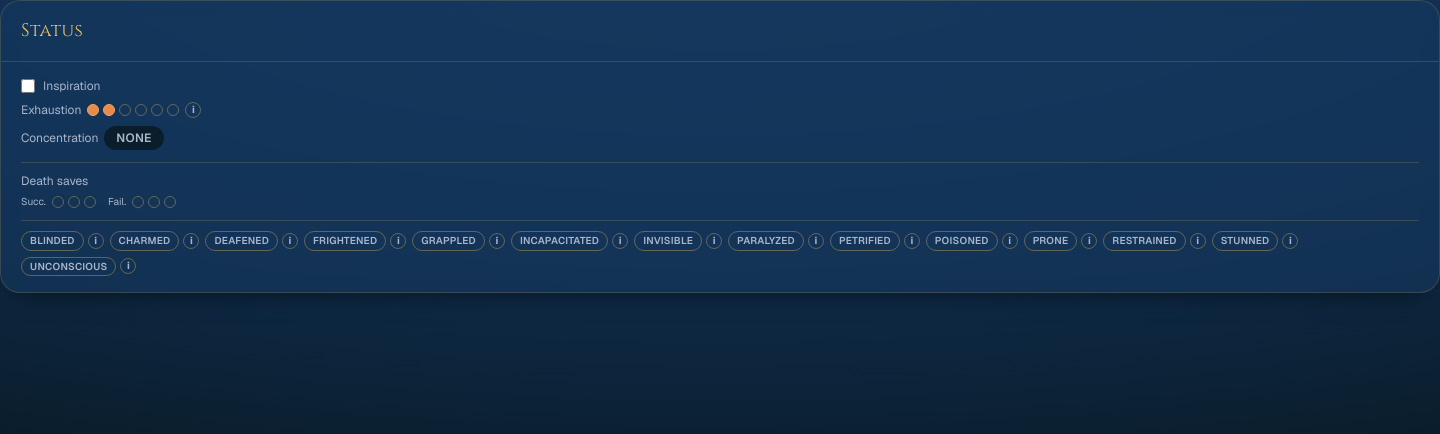
Scenario: StatusPanel › exhaustion › the tooltip lists the cumulative 2014 effects
Hover over the button named "About Exhaustion 2".
mouse_move(193, 110)  # box [185, 102, 201, 118]
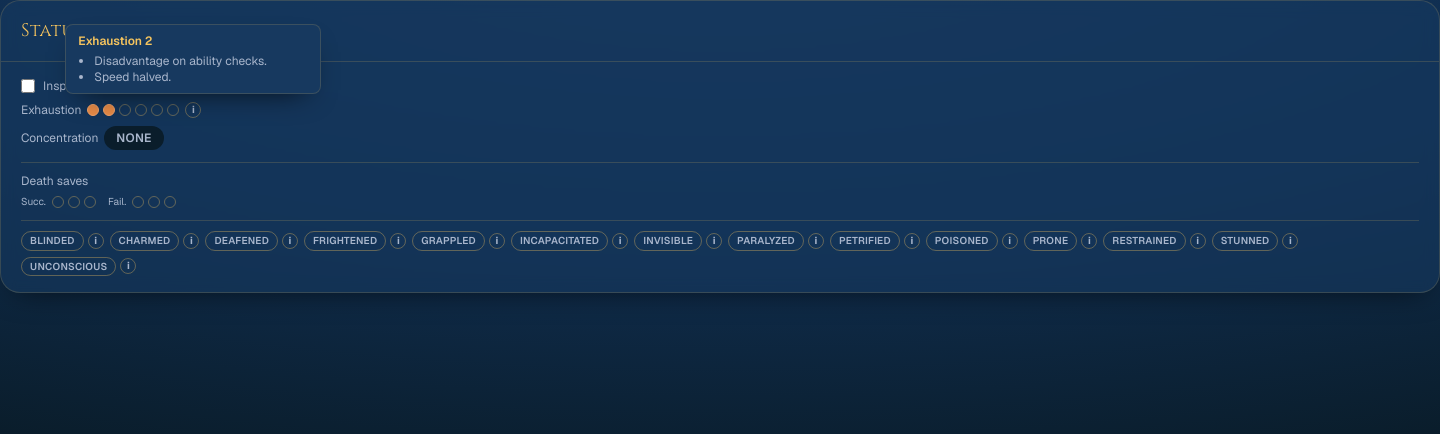
Check: the tooltip does not show "Hit point maximum halved.", box [65, 24, 321, 94]
Check: the tooltip shows "Disadvantage on ability checks.", box [94, 53, 267, 69]
Check: the tooltip shows "Speed halved.", box [94, 69, 171, 85]
